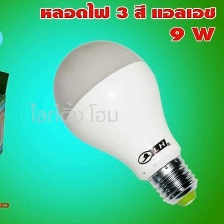light_bulb: (48, 34, 200, 210)
